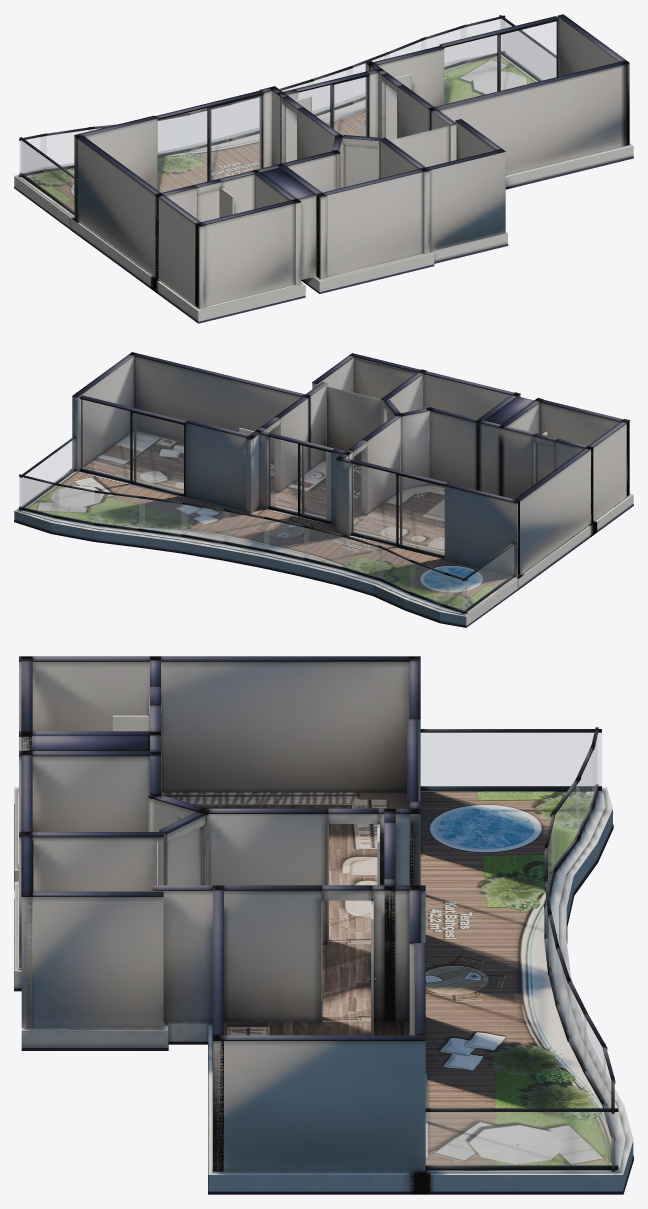
The picture shows the model from 3 angles, top to bottom: view 1: azimuth 30°, elevation 25°; view 2: azimuth 150°, elevation 25°; view 3: azimuth 270°, elevation 25°; orthographic projection. The views are drawn at different scales.
Parts seen in each view (by area): view 1: plan, glass0_m, glass2_m, glass1_m, railg13_m, railg12_m, railg4_m, railg5_m, railg2_m, railg6_m, railg8_m, railg1_m (+2 smaller); view 2: plan, glass2_m, glass0_m, glass1_m, railg12_m, railg13_m, railg10_m, railg9_m, railg11_m, railg8_m, railg7_m, railg6_m (+6 smaller); view 3: plan, railg12_m, railg13_m, railg3_m, railg10_m, railg9_m, railg2_m.
Boxes of the visible parts, box(x1,y1,x2,y2) form: plan: box(14, 14, 633, 323); glass0_m: box(158, 96, 261, 192); glass2_m: box(444, 22, 556, 103); glass1_m: box(298, 77, 366, 136); railg13_m: box(21, 141, 73, 211); railg12_m: box(500, 19, 555, 80); railg4_m: box(461, 19, 504, 60); railg5_m: box(190, 107, 225, 147); railg2_m: box(41, 129, 94, 168); railg6_m: box(232, 98, 258, 137); railg8_m: box(307, 69, 352, 113); railg1_m: box(158, 117, 182, 154); plan: box(14, 352, 633, 627); glass2_m: box(81, 399, 183, 493); glass0_m: box(351, 463, 444, 554); glass1_m: box(269, 437, 331, 521); railg12_m: box(20, 439, 74, 507); railg13_m: box(463, 545, 513, 611); railg10_m: box(95, 493, 144, 528); railg9_m: box(139, 498, 187, 534); railg11_m: box(54, 485, 100, 523); railg8_m: box(182, 504, 228, 541); railg7_m: box(224, 511, 269, 549); railg6_m: box(264, 519, 308, 558); plan: box(14, 656, 633, 1194); railg12_m: box(426, 1112, 617, 1165); railg13_m: box(421, 733, 601, 786); railg3_m: box(552, 782, 579, 870); railg10_m: box(584, 1016, 605, 1103); railg9_m: box(567, 983, 586, 1070); railg2_m: box(576, 750, 593, 837).
Size of the model in its own units: 14.31 by 2.62 by 9.66.
Materials: 2 (1 with a texture image).
